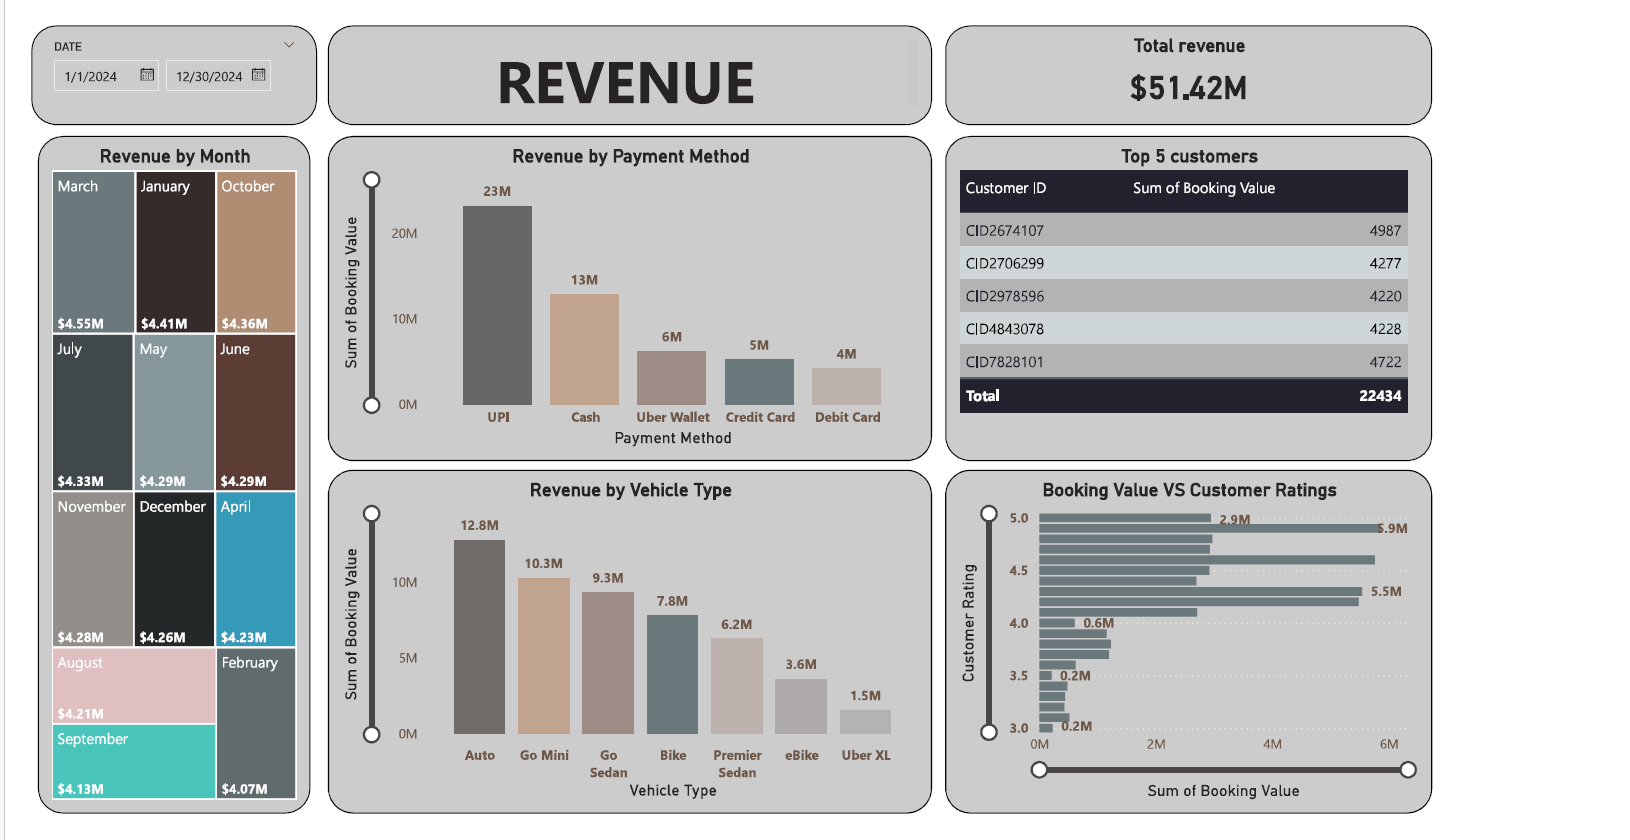

What the dashboard file says about the page in this screenshot:
{"tool":"powerbi","page":{"name":"Revenue ","canvas":[1280,720],"ordinal":1},"visuals":[{"type":"columnChart","title":"Revenue by Payment Method","fields":{"Category":["Uber_Data.Payment Method"],"Y":["Sum(Uber_Data.Booking Value)"]},"box":[270.7,101.2,552.4,296.3],"z":0},{"type":"slicer","fields":{"Values":["Uber_Data.DateTimeCombined"]},"box":[0,0,261,91.5],"z":1000},{"type":"clusteredColumnChart","title":"Revenue by Vehicle Type","fields":{"Category":["Uber_Data.Vehicle Type"],"Y":["Sum(Uber_Data.Booking Value)"]},"box":[270.7,406.1,552.4,313.4],"z":2000},{"type":"clusteredBarChart","title":"Booking Value VS Customer Ratings","fields":{"Y":["Sum(Uber_Data.Booking Value)"],"Category":["Uber_Data.Customer Rating"]},"box":[835.4,406.1,445.1,313.4],"z":3000},{"type":"tableEx","title":"Top 5 customers ","fields":{"Values":["Uber_Data.Customer ID","Sum(Uber_Data.Booking Value)"]},"box":[835.4,101.2,445.1,296.3],"z":4000},{"type":"treemap","title":"Revenue by Month","fields":{"Values":["Booking ID.Total_Booking_Value"],"Group":["Uber_Data.Date.Variation.Date Hierarchy.Month"]},"box":[6.1,101.2,248.8,618.3],"z":5000},{"type":"card","title":"Total revenue ","fields":{"Values":["Booking ID.Total_Booking_Value"]},"box":[835.4,0,445.1,91.5],"z":6000},{"type":"textbox","box":[270.7,0,552.4,91.5],"z":7000}]}

Visuals, with their boxes on the page's 1280x720 design canvas (x1, y1, x2, y2). These are canvas units, not pixel positions in the 1630x840 screenshot, which may show the page scaled, cropped or inside an application window:
"Revenue by Payment Method" columnChart: select_region(271, 101, 823, 398)
slicer - Uber_Data.DateTimeCombined: select_region(0, 0, 261, 92)
"Revenue by Vehicle Type" clusteredColumnChart: select_region(271, 406, 823, 720)
"Booking Value VS Customer Ratings" clusteredBarChart: select_region(835, 406, 1280, 720)
"Top 5 customers " tableEx: select_region(835, 101, 1280, 398)
"Revenue by Month" treemap: select_region(6, 101, 255, 720)
"Total revenue " card: select_region(835, 0, 1280, 92)
textbox: select_region(271, 0, 823, 92)
